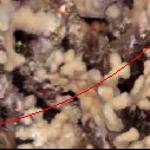alive: (6, 1, 146, 146)
